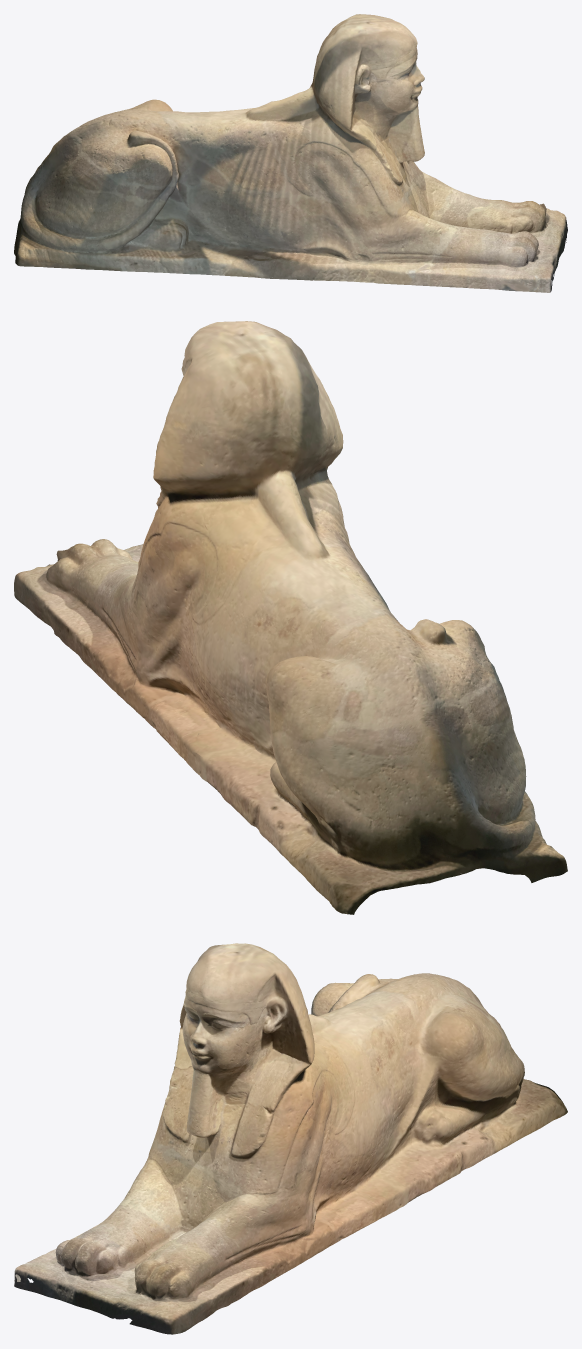
File: sphinx.glb
The picture shows the model from 3 angles, top to bottom: view 1: azimuth 30°, elevation 25°; view 2: azimuth 150°, elevation 25°; view 3: azimuth 270°, elevation 25°; orthographic projection. The views are drawn at different scales.
Visible parts, largest first — view 1: Object_2; view 2: Object_2; view 3: Object_2.
Boxes of the visible parts, x1=… form: Object_2: x1=14, y1=14, x2=567, y2=292; Object_2: x1=14, y1=321, x2=567, y2=914; Object_2: x1=14, y1=943, x2=567, y2=1334.
Size of the model in its own units: 2.64 by 1.27 by 2.28.
Materials: 1 (1 with a texture image).
